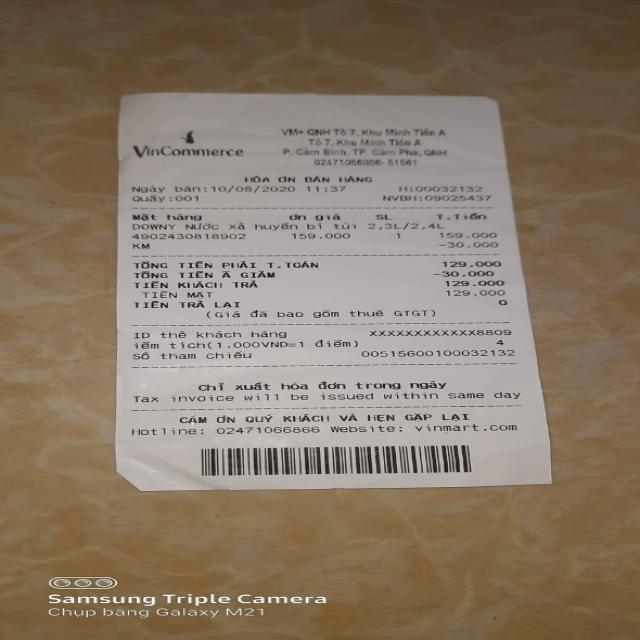Date: (209, 183, 298, 195)
Store_Name: (129, 144, 254, 160)
amount_number: (440, 260, 505, 270)
label_total: (131, 259, 325, 270)
